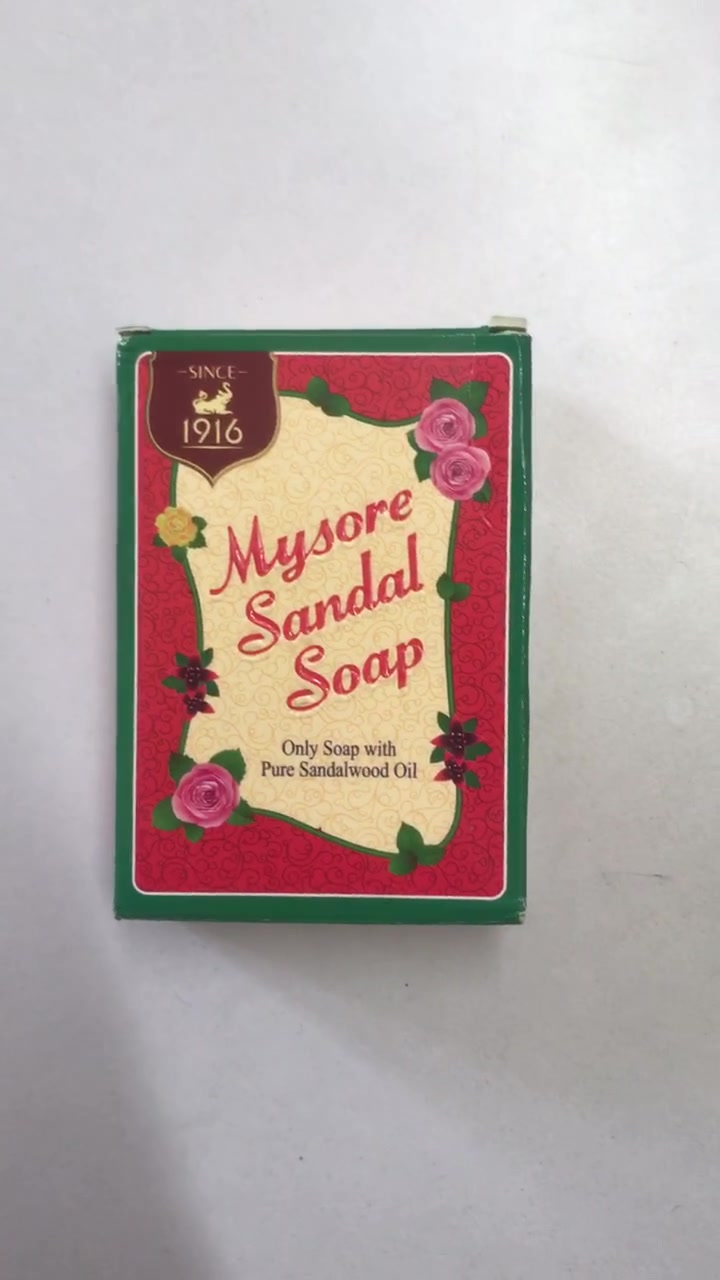mysore sandal soap: (119, 327, 524, 924)
